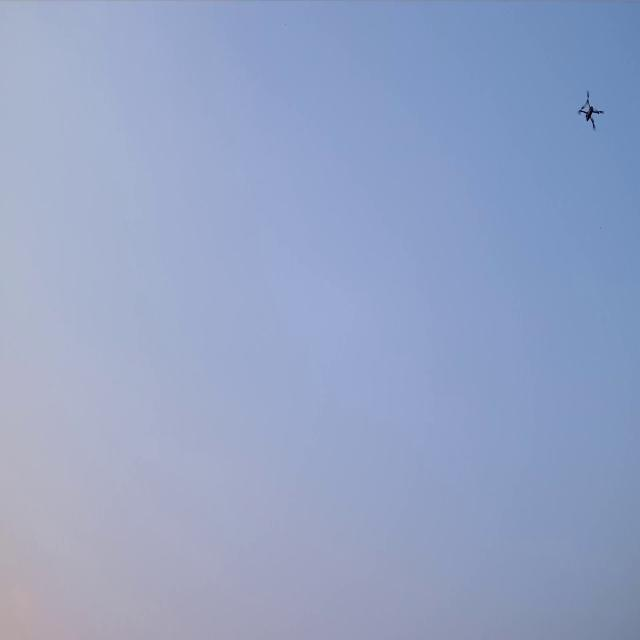UAV: (576, 89, 606, 133)
